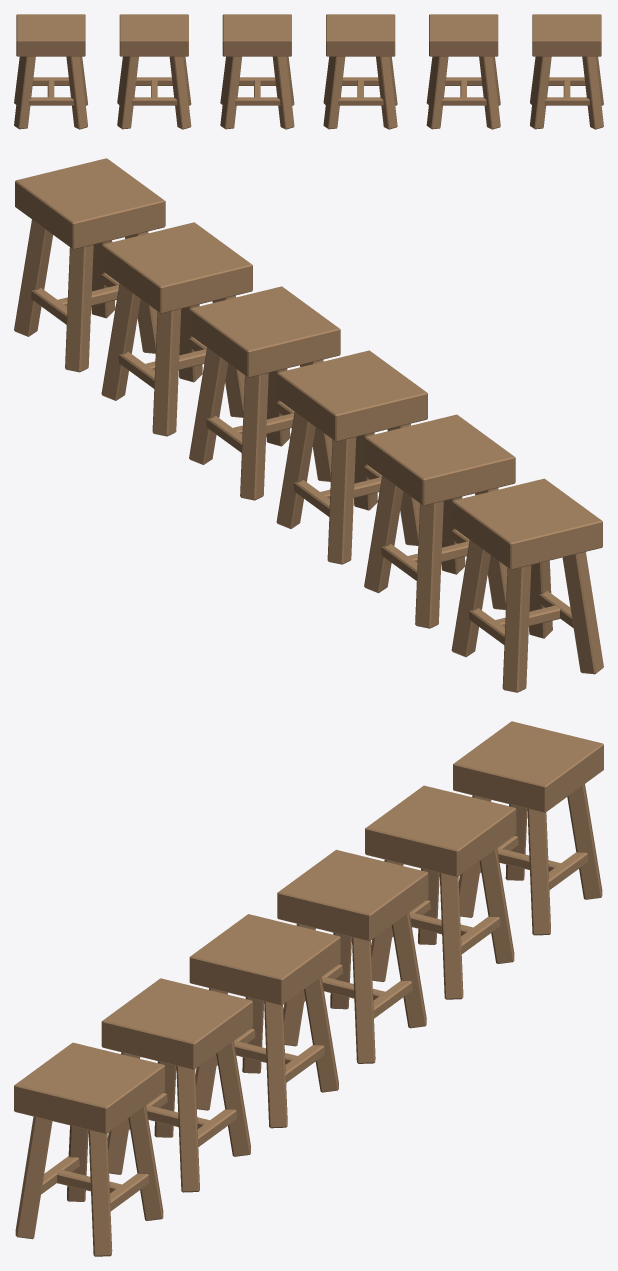
File: yokocho-charcoal-stool-set.glb
3 renders of one model, top to bottom at view 1: azimuth 30°, elevation 25°; view 2: azimuth 150°, elevation 25°; view 3: azimuth 270°, elevation 25°, orthographic. The views are drawn at different scales.
Visible parts, largest first — view 1: Shops/S01/Personality/CharcoalSeats__Food_Chestnut, Shops/S01/Personality/CharcoalSeats__DarkTimber, Shops/S01/Personality/CharcoalSeats__Cedar; view 2: Shops/S01/Personality/CharcoalSeats__Food_Chestnut, Shops/S01/Personality/CharcoalSeats__DarkTimber, Shops/S01/Personality/CharcoalSeats__Cedar; view 3: Shops/S01/Personality/CharcoalSeats__Food_Chestnut, Shops/S01/Personality/CharcoalSeats__DarkTimber, Shops/S01/Personality/CharcoalSeats__Cedar.
Part boxes in pixels (x1,y1,x2,y2): Shops/S01/Personality/CharcoalSeats__Food_Chestnut: (16,14,601,56); Shops/S01/Personality/CharcoalSeats__DarkTimber: (14,56,603,129); Shops/S01/Personality/CharcoalSeats__Cedar: (28,77,589,105); Shops/S01/Personality/CharcoalSeats__Food_Chestnut: (15,158,602,569); Shops/S01/Personality/CharcoalSeats__DarkTimber: (14,219,603,692); Shops/S01/Personality/CharcoalSeats__Cedar: (31,273,573,644); Shops/S01/Personality/CharcoalSeats__Food_Chestnut: (14,721,603,1133); Shops/S01/Personality/CharcoalSeats__DarkTimber: (15,784,602,1256); Shops/S01/Personality/CharcoalSeats__Cedar: (41,836,587,1210).
Bounding box in the file's own units: 3.65 × 0.6706 × 2.35.
